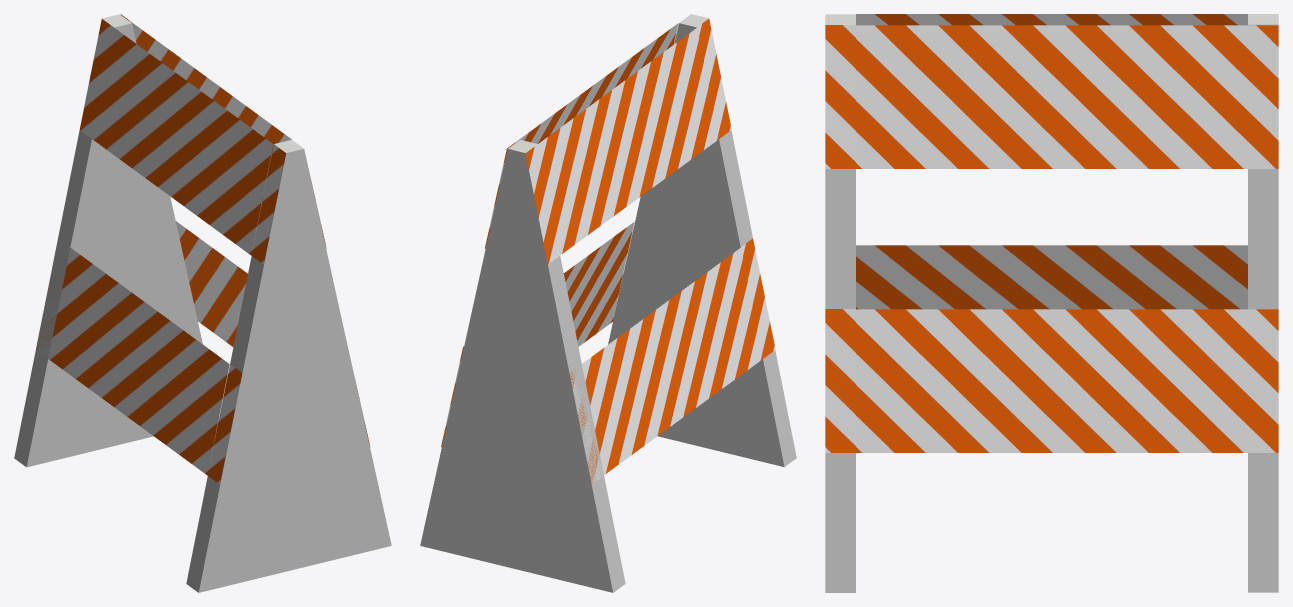
The model's file is construction_double_fence.dae.
3 views of the same model, side by side, from view 1: azimuth 30°, elevation 25°; view 2: azimuth 150°, elevation 25°; view 3: azimuth 270°, elevation 25° (orthographic). The views are drawn at different scales.
Parts seen in each view (by area): view 1: SketchUp (×2), group_0 (×2), group_2 (×2), group_3, group_1; view 2: SketchUp (×2), group_0 (×2), group_2 (×2), group_3, group_1; view 3: group_1 (×2), group_3 (×2), group_2, SketchUp (×2), group_0.
Part boxes in pixels (x1,y1,x2,y2): SketchUp (×2): (14,23,391,592); group_0 (×2): (79,19,286,264); group_2 (×2): (36,248,242,484); group_3: (176,221,247,346); group_1: (120,14,291,201); SketchUp (×2): (420,23,796,592); group_0 (×2): (525,18,731,264); group_2 (×2): (569,238,775,483); group_3: (441,222,634,447); group_1: (485,23,678,248); group_1 (×2): (825,25,1278,168); group_3 (×2): (825,309,1278,452); group_2: (856,245,1247,309); SketchUp (×2): (825,24,1278,592); group_0: (856,14,1247,25).
Bounding box in the file's own units: 17.04 × 28.06 × 35.2.
3 materials, 1 textured.
